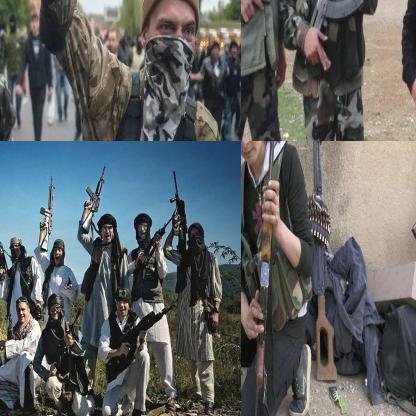pistol: (241, 0, 277, 31)
rifle: (300, 141, 347, 385), (251, 141, 283, 399), (304, 0, 368, 68), (122, 300, 181, 349), (79, 162, 109, 239), (54, 304, 86, 376), (134, 220, 170, 272), (37, 173, 56, 254), (170, 171, 189, 243), (0, 221, 10, 283)
